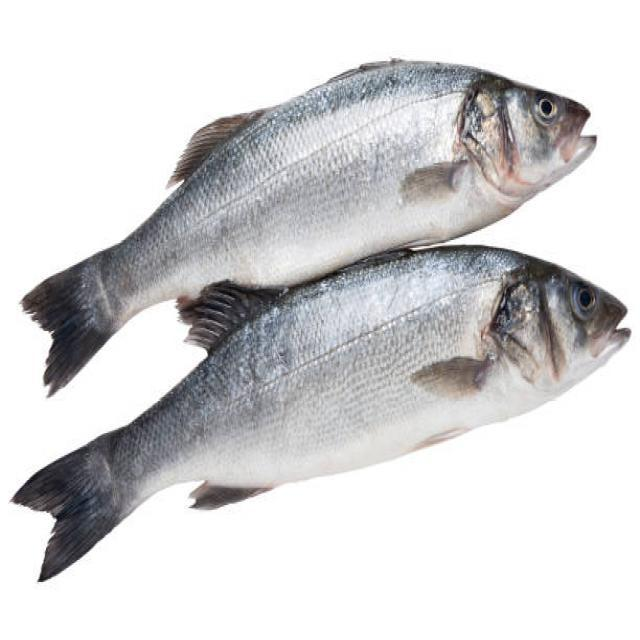Healthy Fish: (9, 62, 630, 582)
